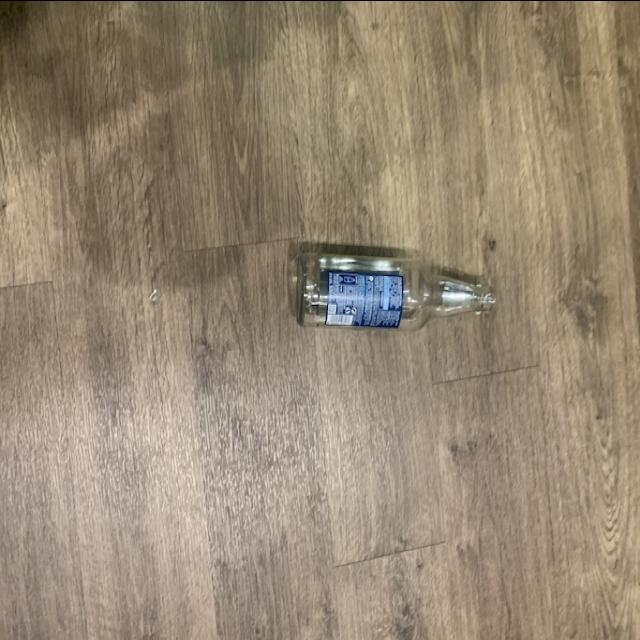litter: (294, 244, 496, 336)
